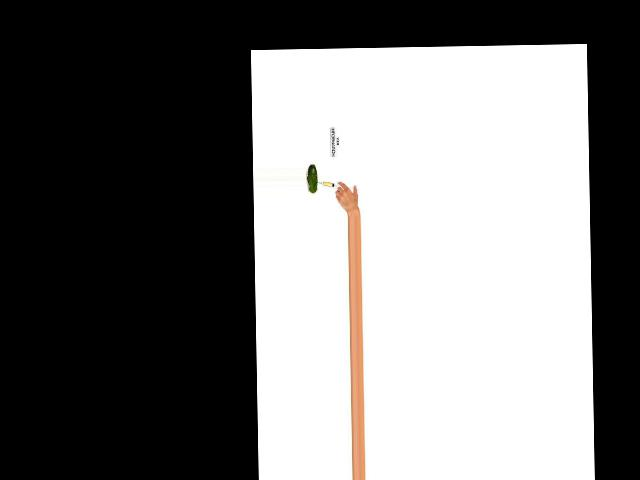cucumber: (307, 164, 317, 194)
